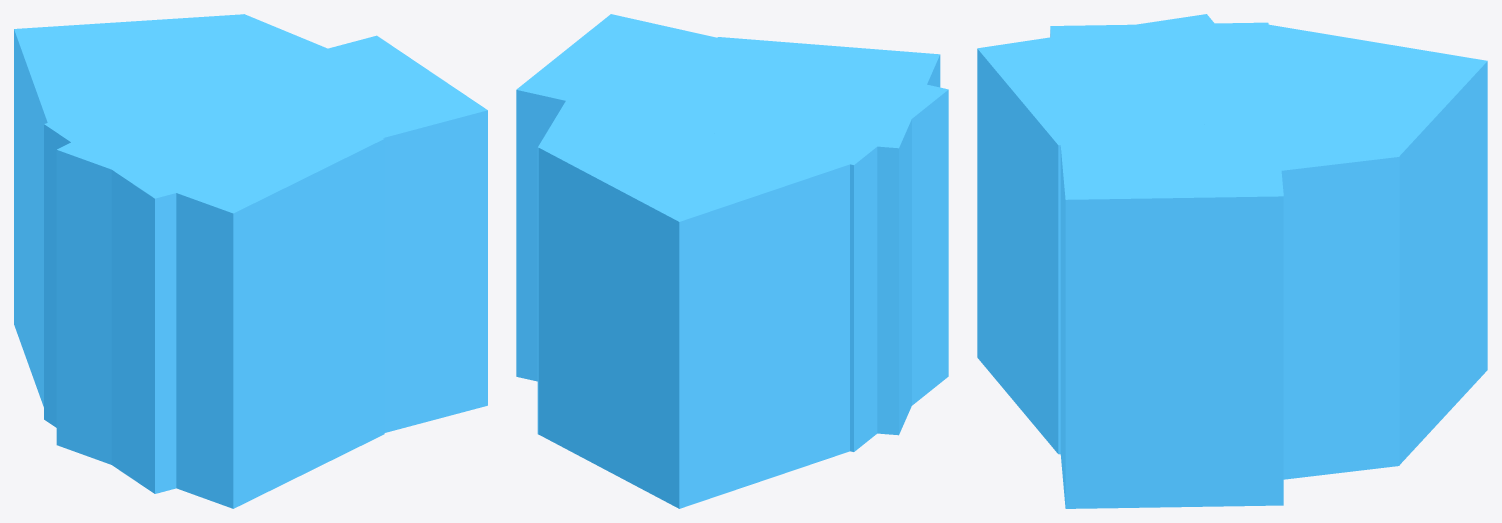
File: TriggerMenu.FBX
3 renders of one model, left to right at view 1: azimuth 30°, elevation 25°; view 2: azimuth 150°, elevation 25°; view 3: azimuth 270°, elevation 25°, orthographic. The views are drawn at different scales.
Visible parts, largest first — view 1: TriggerMenu; view 2: TriggerMenu; view 3: TriggerMenu.
Part boxes in pixels (x1,y1,x2,y2): TriggerMenu: (14,14,487,508); TriggerMenu: (516,14,948,508); TriggerMenu: (977,14,1487,508).
Size of the model in its own units: 181 by 210 by 140.
